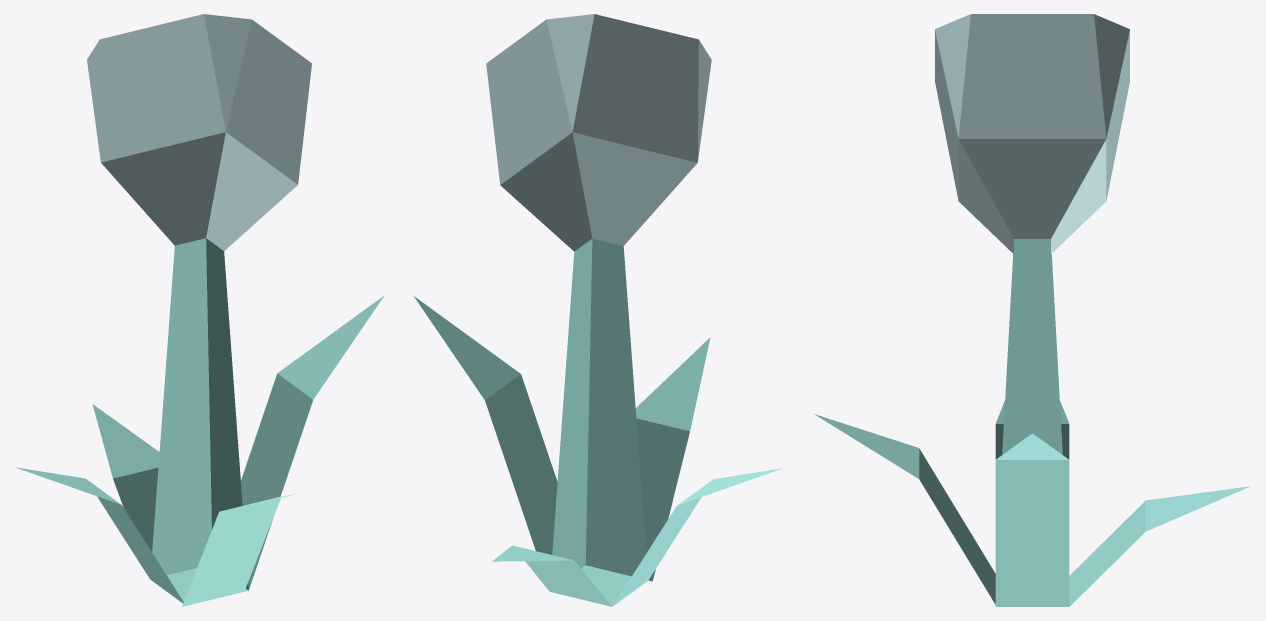
The model's file is flower_blue1.glb.
The picture shows the model from 3 angles, left to right: view 1: azimuth 30°, elevation 25°; view 2: azimuth 150°, elevation 25°; view 3: azimuth 270°, elevation 25°; orthographic projection. The views are drawn at different scales.
Parts seen in each view (by area): view 1: flower_blue1; view 2: flower_blue1; view 3: flower_blue1.
Boxes of the visible parts, x1,y1,x2,y2 form: flower_blue1: [15, 14, 384, 606]; flower_blue1: [414, 14, 783, 606]; flower_blue1: [814, 14, 1251, 606].
Size of the model in its own units: 2.08 by 2.8 by 2.08.
